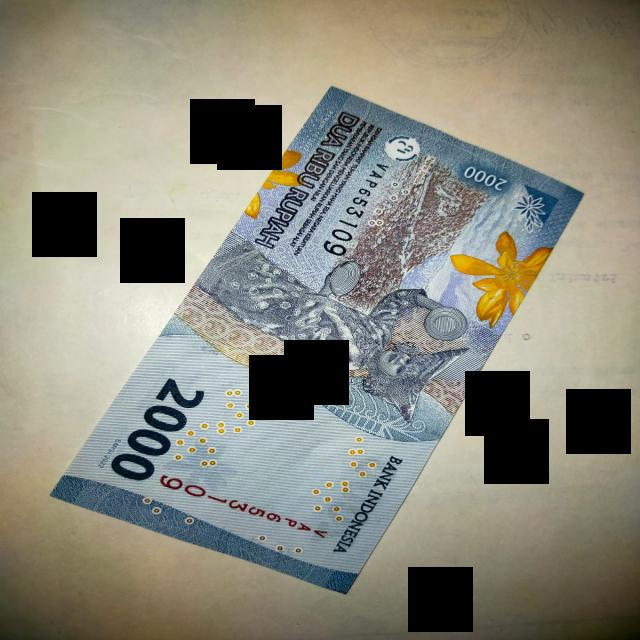dua ribu rupiah: (52, 88, 582, 592)
